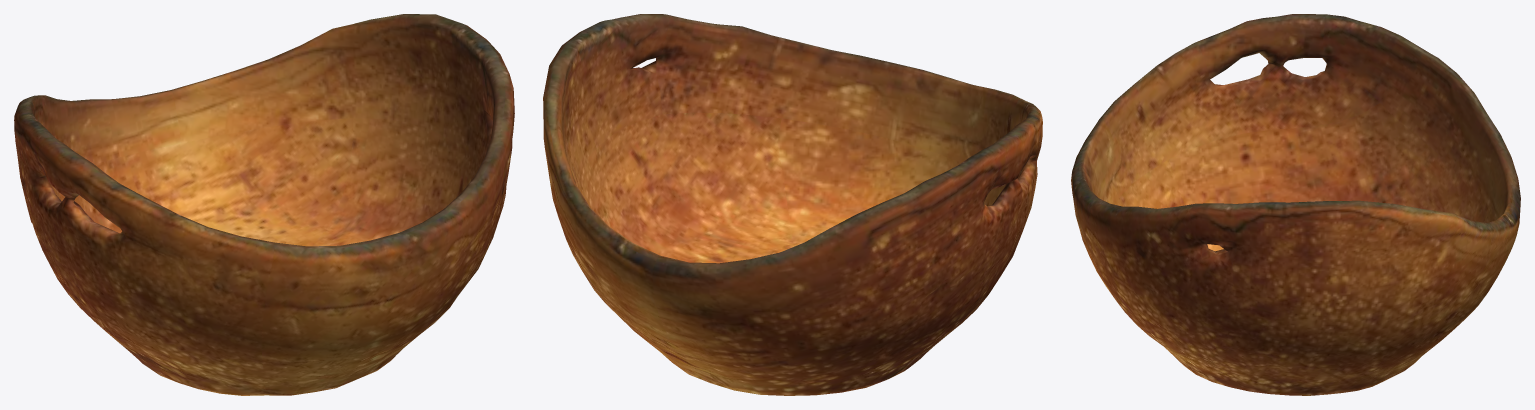
File: wooden_bowl_02.glb
3 views of the same model, side by side, from view 1: azimuth 30°, elevation 25°; view 2: azimuth 150°, elevation 25°; view 3: azimuth 270°, elevation 25° (orthographic). The views are drawn at different scales.
Parts seen in each view (by area): view 1: wooden_bowl_02; view 2: wooden_bowl_02; view 3: wooden_bowl_02.
Part boxes in pixels (bbox=[...]): wooden_bowl_02: bbox=[14, 14, 514, 395]; wooden_bowl_02: bbox=[543, 14, 1042, 395]; wooden_bowl_02: bbox=[1071, 14, 1520, 395].
Size of the model in its own units: 0.1307 by 0.0731 by 0.1245.
1 material, 1 textured.
